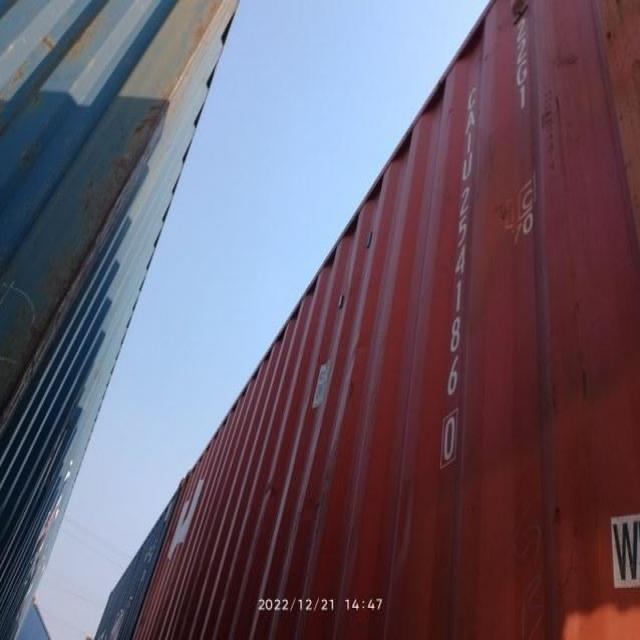ISO: (501, 8, 555, 116)
container_number: (436, 69, 481, 466)
